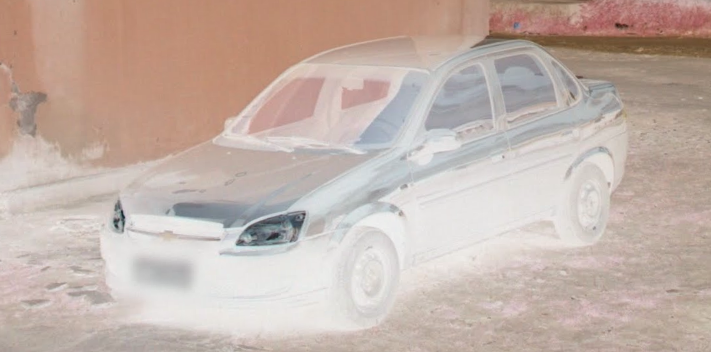car: (96, 33, 632, 327)
